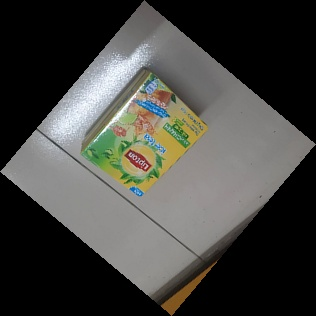LipTon: (81, 68, 211, 197)
